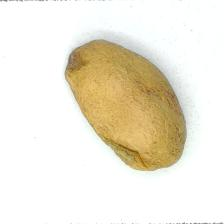NG: (96, 130, 153, 172), (64, 47, 86, 78)
